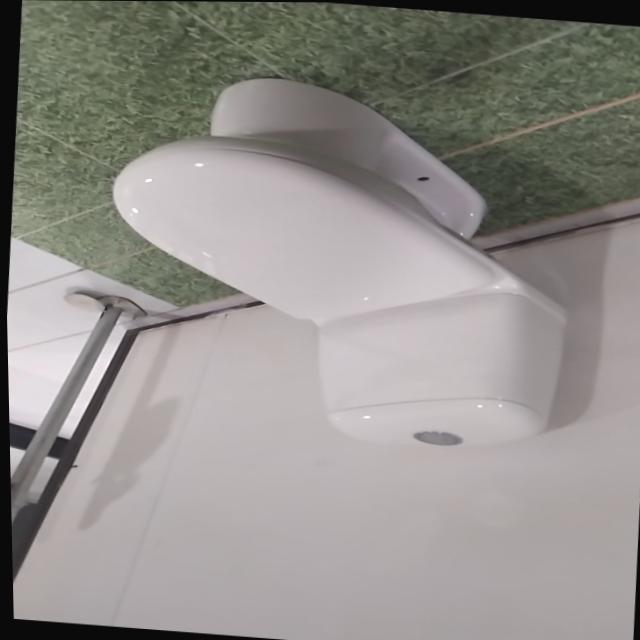toilet: (93, 65, 584, 459)
